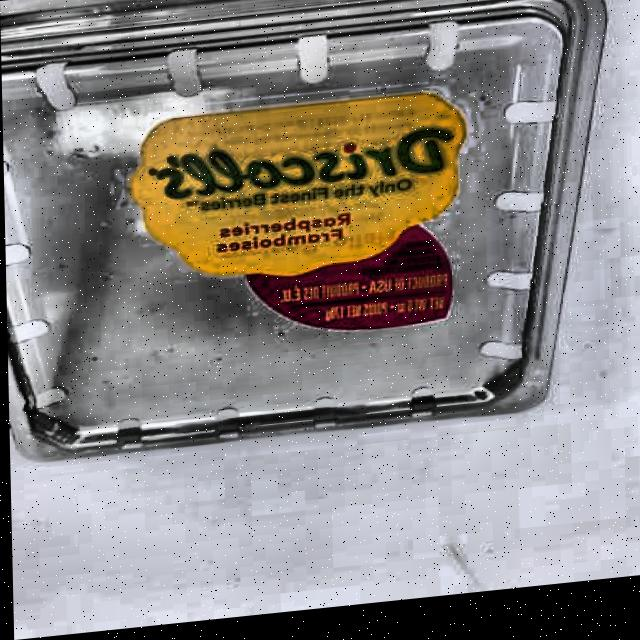plastic: (0, 0, 620, 465)
